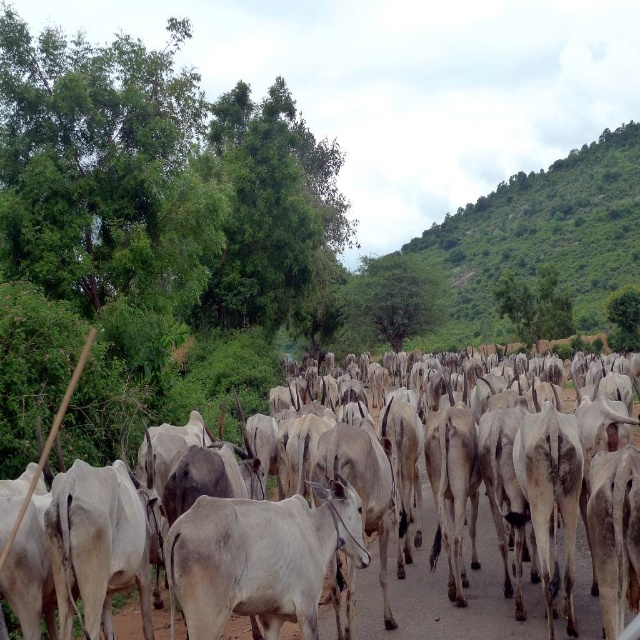Cattle: (0, 338, 640, 640)
